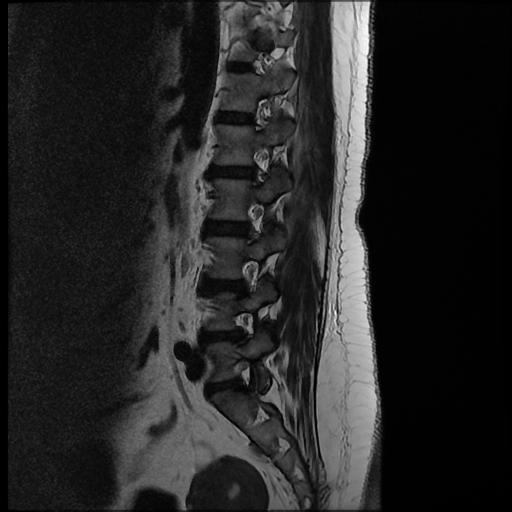LFS0: (238, 194, 272, 248), (244, 140, 277, 189), (227, 303, 261, 350), (232, 253, 266, 299), (227, 355, 262, 397)
